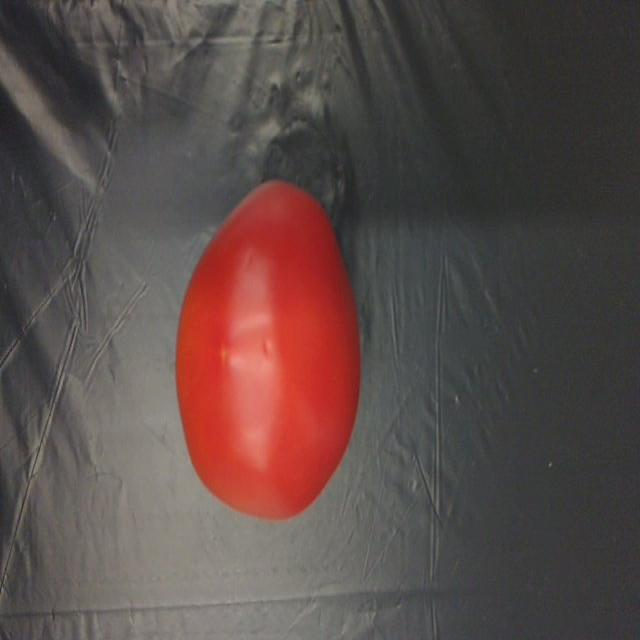kirmizi: (167, 177, 369, 530)
